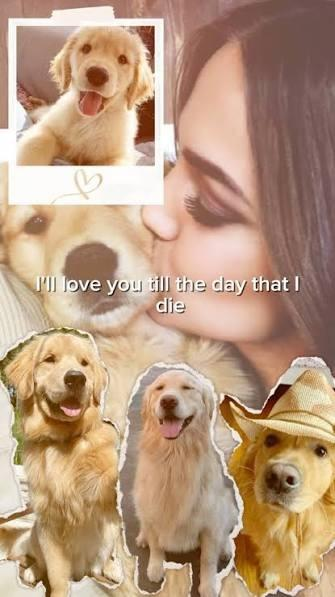adult_dog: (1, 202, 259, 447), (1, 327, 133, 597), (126, 364, 242, 597), (230, 419, 335, 597)
non-dog: (141, 8, 335, 403)
puppy-dog: (17, 24, 156, 168)
